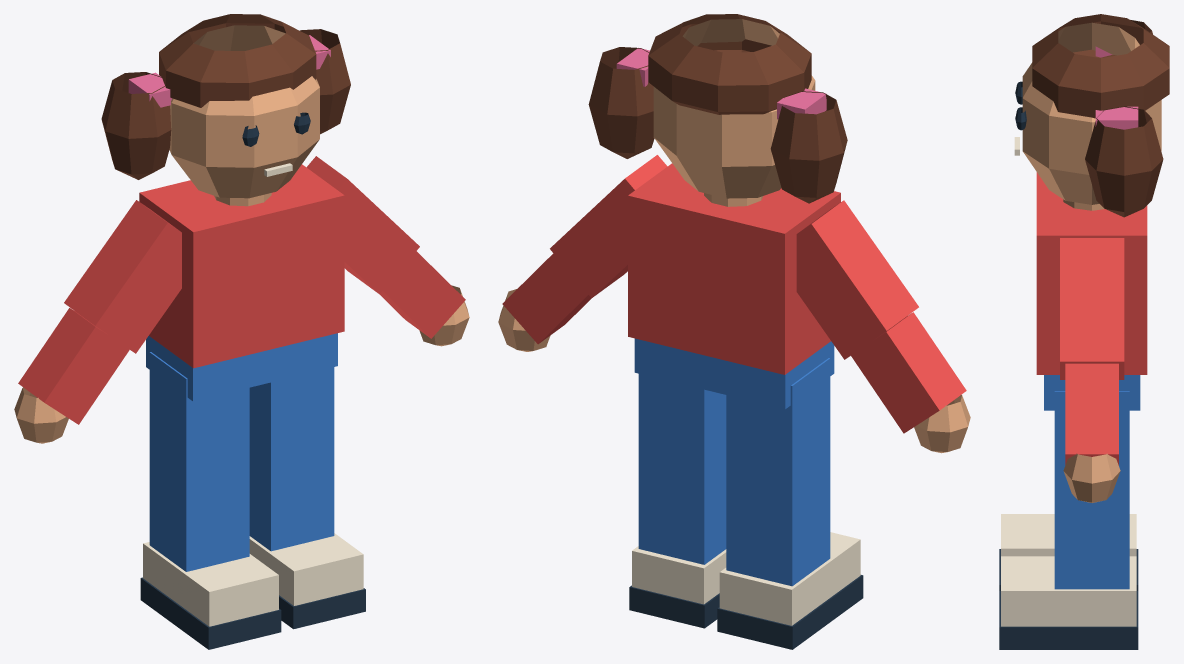
The model's file is 03_runner_skin_red.obj.
3 renders of one model, left to right at view 1: azimuth 30°, elevation 25°; view 2: azimuth 150°, elevation 25°; view 3: azimuth 270°, elevation 25°, orthographic. The views are drawn at different scales.
Visible parts, largest first — view 1: part_7, part_2, part_5, part_9, part_11, part_10, part_12, part_0, part_6, part_17, part_3, part_14 (+7 smaller); view 2: part_7, part_2, part_5, part_9, part_11, part_10, part_12, part_6, part_0, part_17, part_14, part_20 (+7 smaller); view 3: part_7, part_5, part_10, part_9, part_17, part_3, part_20, part_18, part_4, part_0, part_19, part_6 (+1 smaller).
Part boxes in pixels (box(x1,y1,x2,y2)): part_7: box(139, 164, 344, 368); part_2: box(149, 352, 249, 571); part_5: box(249, 367, 334, 551); part_9: box(169, 25, 319, 198); part_11: box(64, 200, 181, 353); part_10: box(159, 14, 316, 107); part_12: box(18, 308, 129, 424); part_0: box(143, 542, 278, 626); part_6: box(146, 333, 337, 401); part_17: box(306, 156, 419, 294); part_3: box(249, 533, 363, 605); part_14: box(101, 72, 171, 179); part_7: box(628, 163, 840, 374); part_2: box(726, 358, 830, 586); part_5: box(638, 373, 726, 564); part_9: box(653, 19, 815, 198); part_11: box(796, 200, 918, 359); part_10: box(648, 14, 811, 114); part_12: box(851, 312, 966, 433); part_6: box(634, 338, 834, 409); part_0: box(719, 532, 860, 625); part_17: box(550, 155, 667, 297); part_14: box(770, 91, 847, 203); part_20: box(588, 47, 654, 158); part_7: box(1036, 172, 1147, 374); part_5: box(1054, 391, 1129, 589); part_10: box(1032, 14, 1169, 118); part_9: box(1022, 22, 1161, 204); part_17: box(1060, 238, 1124, 379); part_3: box(1001, 556, 1136, 626); part_20: box(1085, 106, 1163, 217); part_18: box(1065, 363, 1118, 465); part_4: box(999, 591, 1138, 649); part_0: box(1001, 514, 1136, 556); part_19: box(1063, 453, 1120, 502); part_6: box(1044, 375, 1140, 410).
Bounding box in the file's own units: 1.49 × 1.78 × 0.4777.
